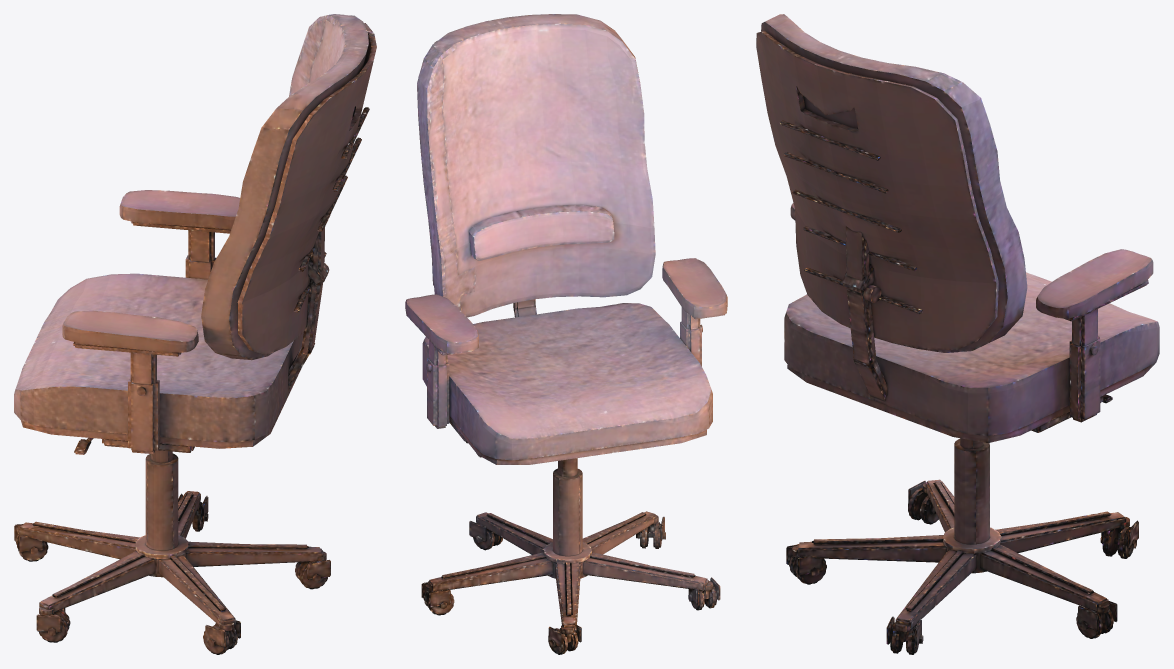
The model's file is chair.glb.
3 renders of one model, left to right at view 1: azimuth 30°, elevation 25°; view 2: azimuth 150°, elevation 25°; view 3: azimuth 270°, elevation 25°, orthographic. The views are drawn at different scales.
Visible parts, largest first — view 1: chair__mesh; view 2: chair__mesh; view 3: chair__mesh.
Part boxes in pixels (box(x1,y1,x2,y2)): chair__mesh: box(14, 14, 376, 654); chair__mesh: box(405, 14, 727, 654); chair__mesh: box(756, 14, 1159, 654).
Bounding box in the file's own units: 0.6874 × 1.12 × 0.6777.
Materials: 1 (1 with a texture image).
